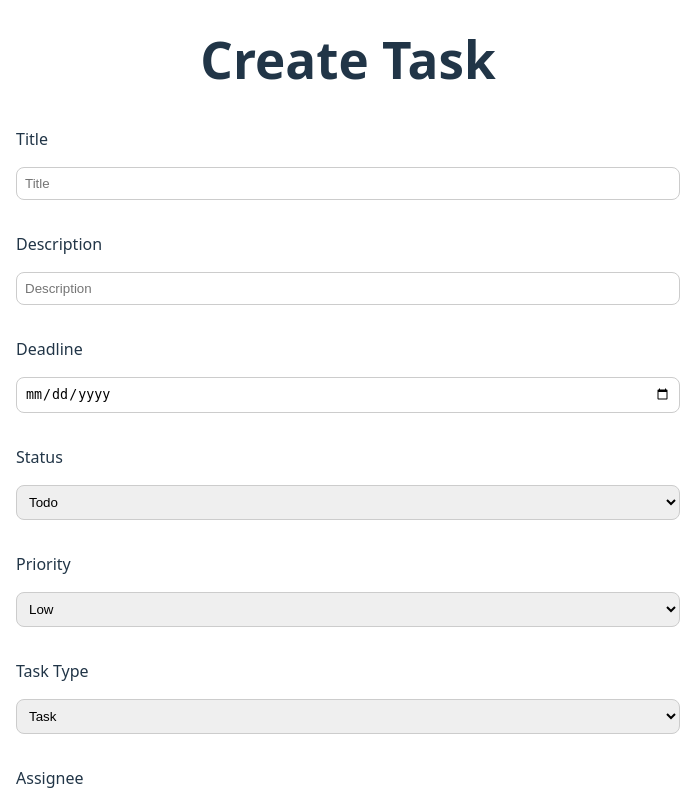
it: CreateTaskPage › should show the toast when got an error creating a task
Type "Test Task" into the field with placeholder "Title".
click(348, 184); type("Test Task")  # box [16,167,680,200]
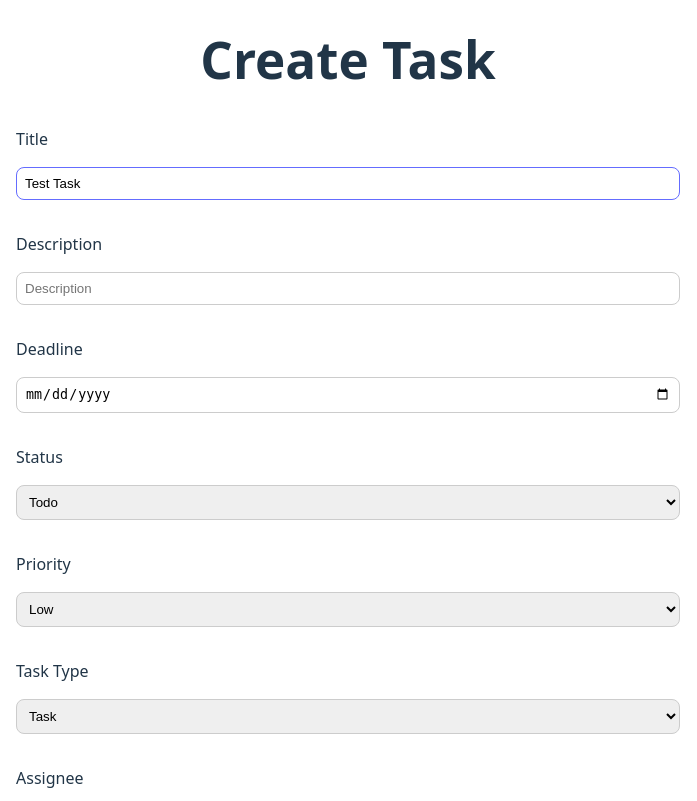
Press Tab
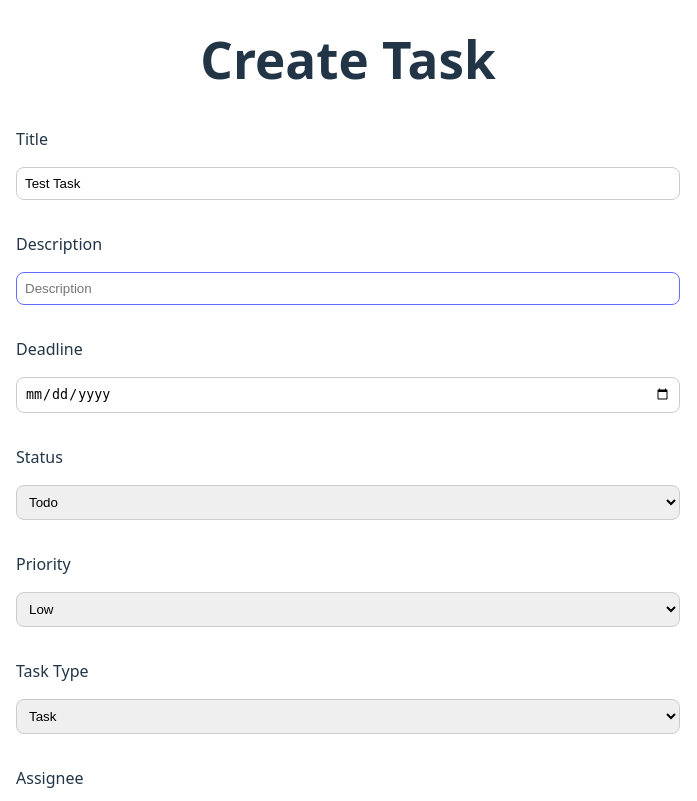
Type "2099-12-31" into the date field labelled "Deadline".
click(348, 395); type("2099-12-31")  # box [16,377,680,413]
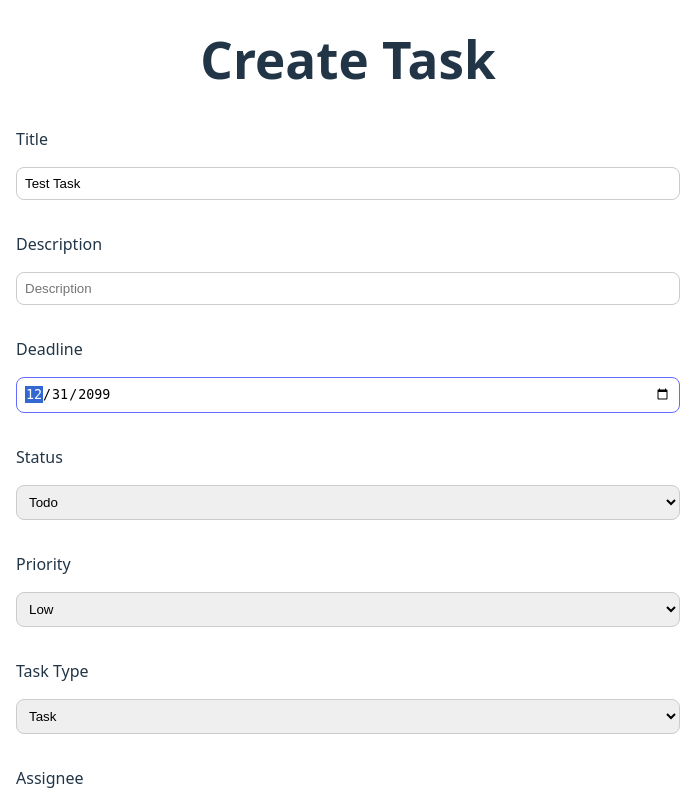
Press Tab
(page scrolled)
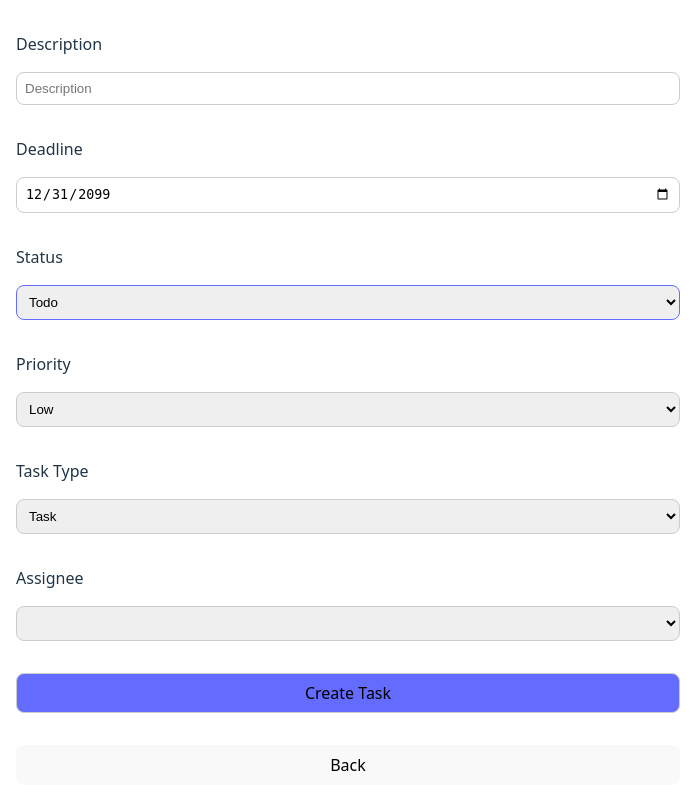
Click the button "Create Task".
click(348, 693)  # box [16,673,680,713]
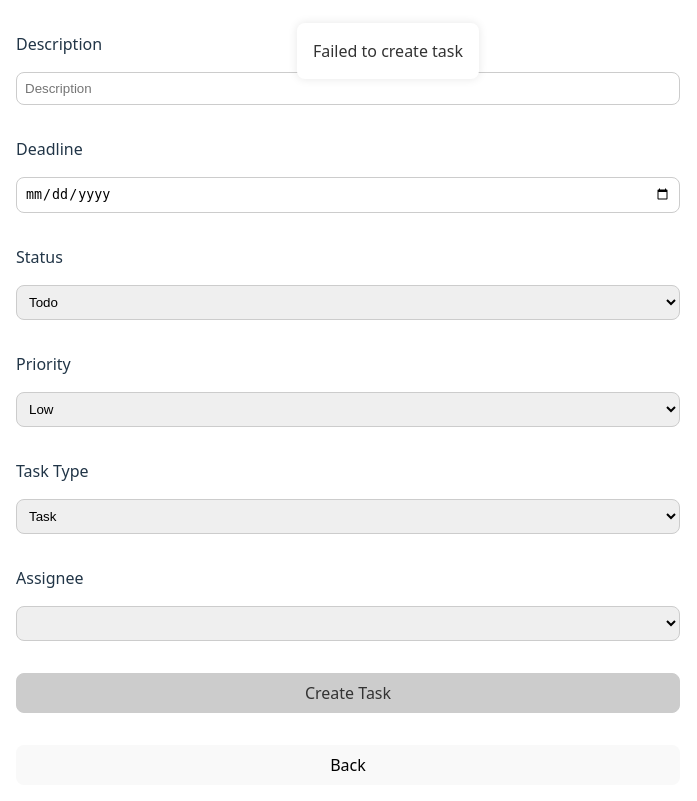
Check: the text "Failed to create task" is shown, box [313,39,463,63]
